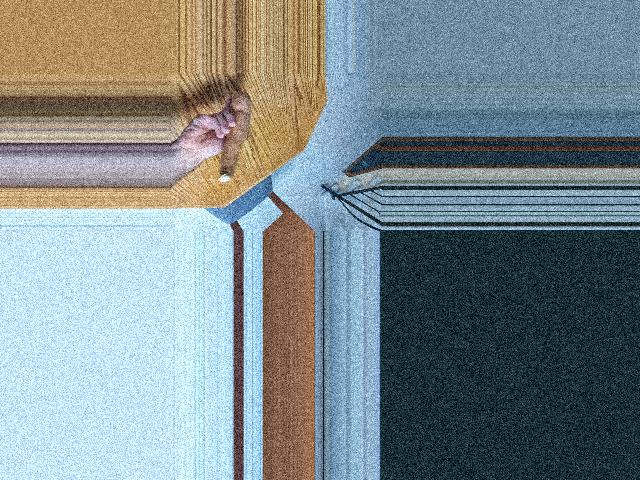sweet_potato: (215, 95, 255, 178)
